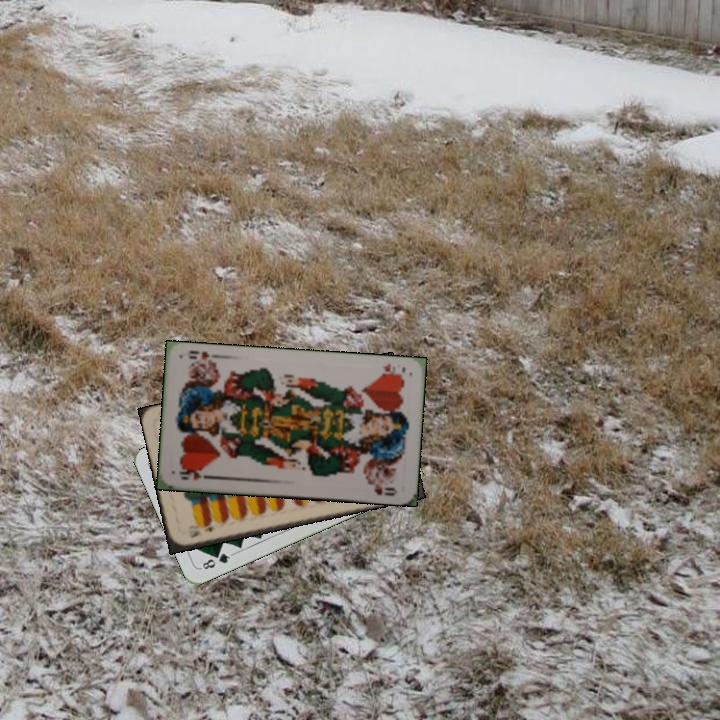E10: (185, 520, 215, 540)
G8: (197, 549, 235, 572)
HO: (175, 466, 213, 482), (375, 360, 407, 379)
